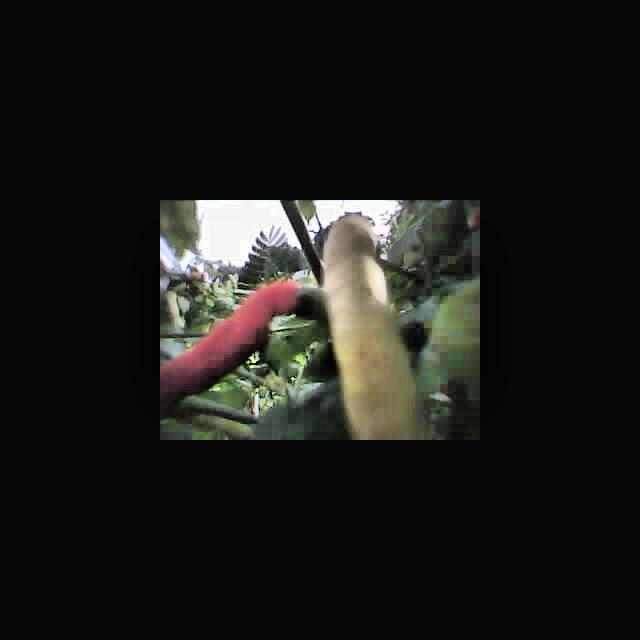Cabai: (305, 216, 404, 435), (160, 280, 289, 407)
